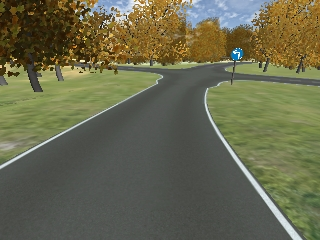left: (231, 49, 242, 62)
